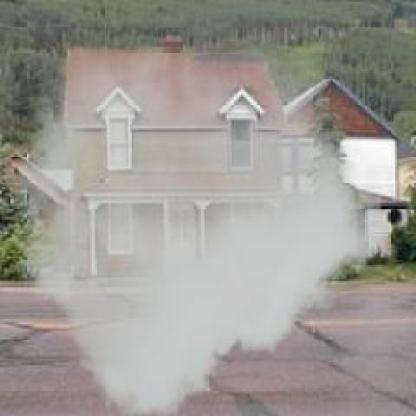Smoke: (13, 47, 382, 414)
